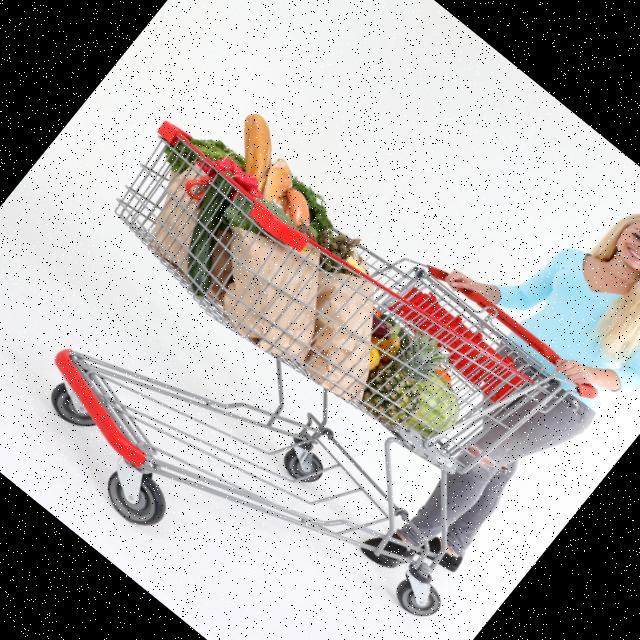Person: (279, 138, 640, 623)
